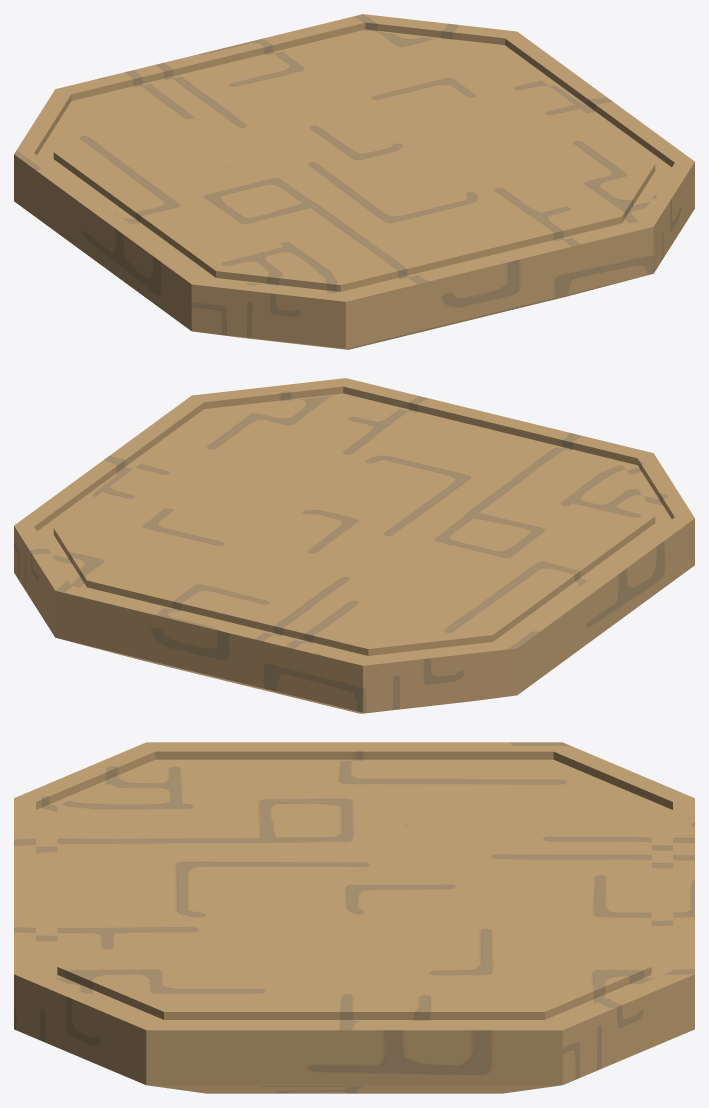
Rendered from Mesh_FloatingPlatformBig.glb.
The picture shows the model from 3 angles, top to bottom: view 1: azimuth 30°, elevation 25°; view 2: azimuth 150°, elevation 25°; view 3: azimuth 270°, elevation 25°; orthographic projection. The views are drawn at different scales.
Parts seen in each view (by area): view 1: Cube.049; view 2: Cube.049; view 3: Cube.049.
Boxes of the visible parts, bbox=[...] form: Cube.049: bbox=[14, 14, 694, 349]; Cube.049: bbox=[14, 378, 694, 713]; Cube.049: bbox=[14, 742, 694, 1093].
Bounding box in the file's own units: 22.41 × 3.81 × 22.41.
Materials: 1 (1 with a texture image).
